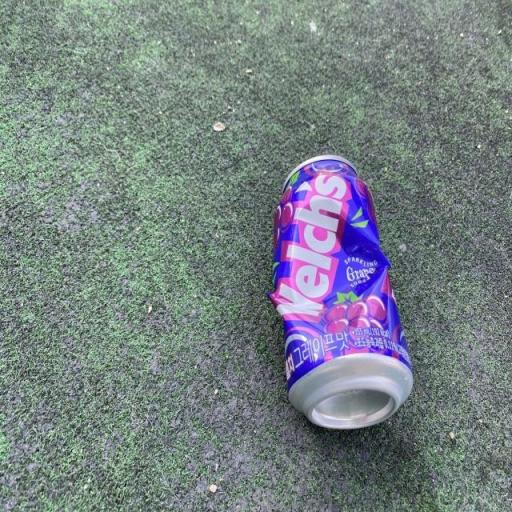metal: (255, 136, 423, 442)
